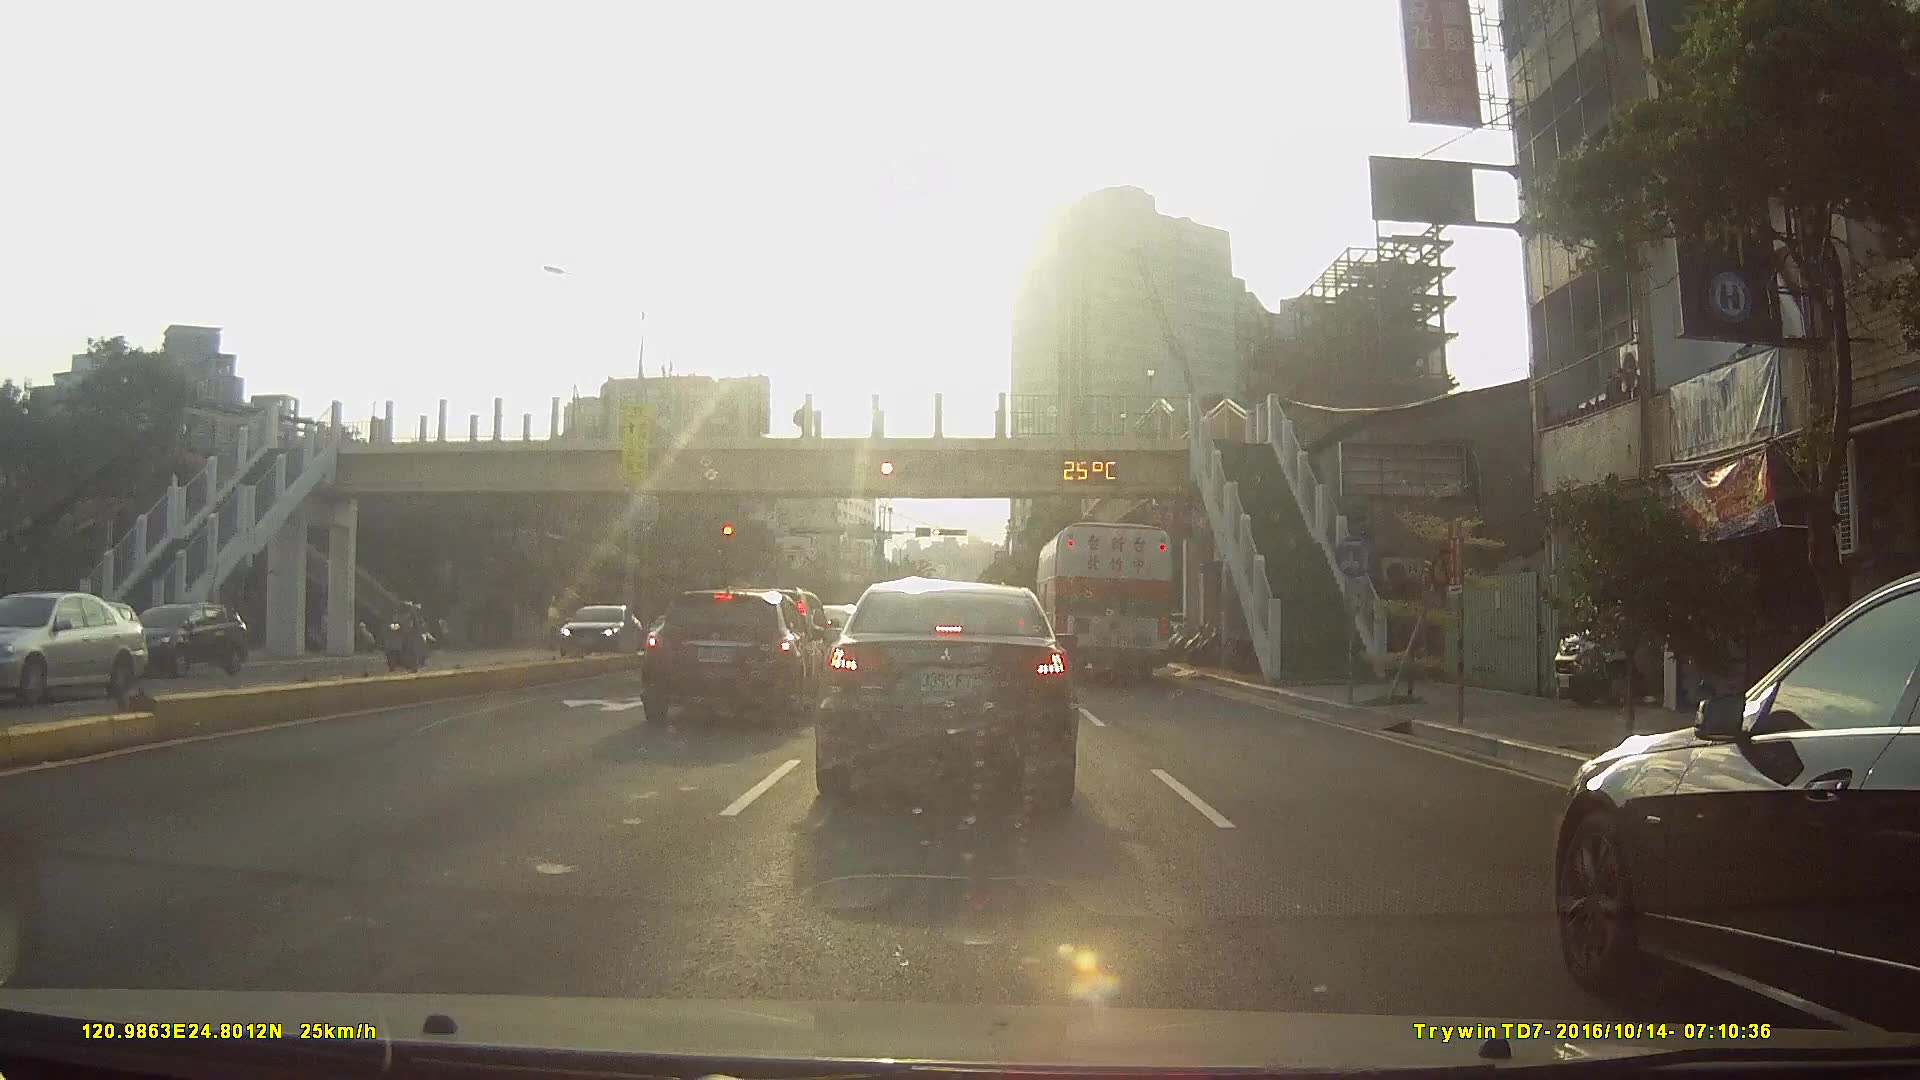pedestrian: (794, 395, 815, 442)
rider: (384, 595, 433, 673)
vehicle: (1543, 563, 1920, 1047), (811, 579, 1079, 804), (634, 585, 827, 728), (1036, 520, 1176, 684), (0, 590, 126, 704), (16, 596, 146, 684), (121, 601, 246, 677), (550, 605, 639, 659)
